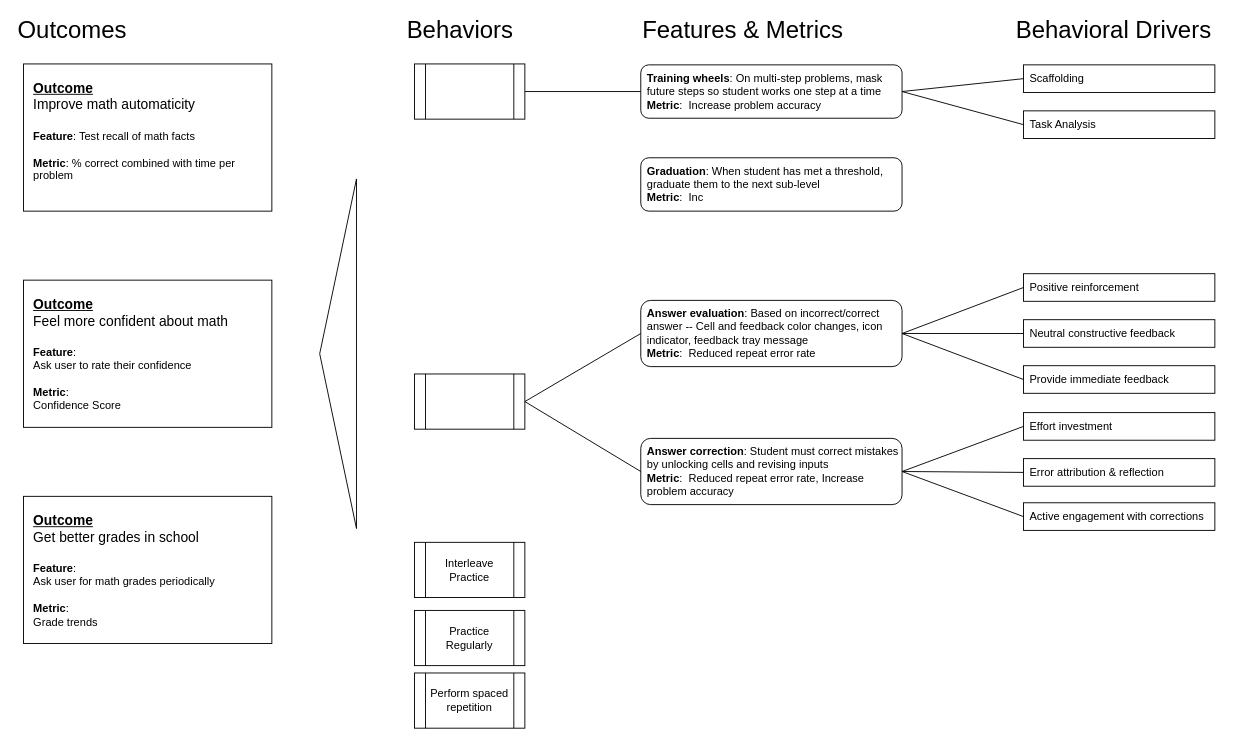
This 1259x744 diagram has some shape labels left out. The box of each missing label's shape, as (x1, y1, x2, y2) in pixels:
Correct Mistakes: (414, 373, 525, 429)
Practice at Right Level: (414, 63, 525, 119)
